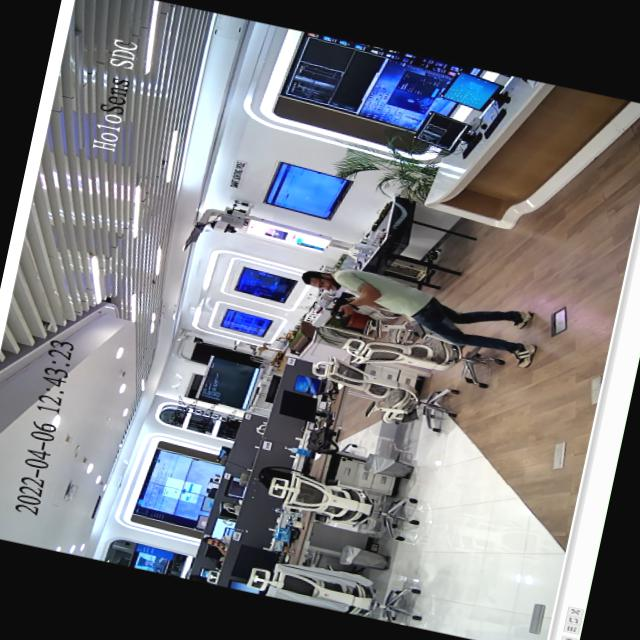long weapon: (314, 286, 371, 334)
